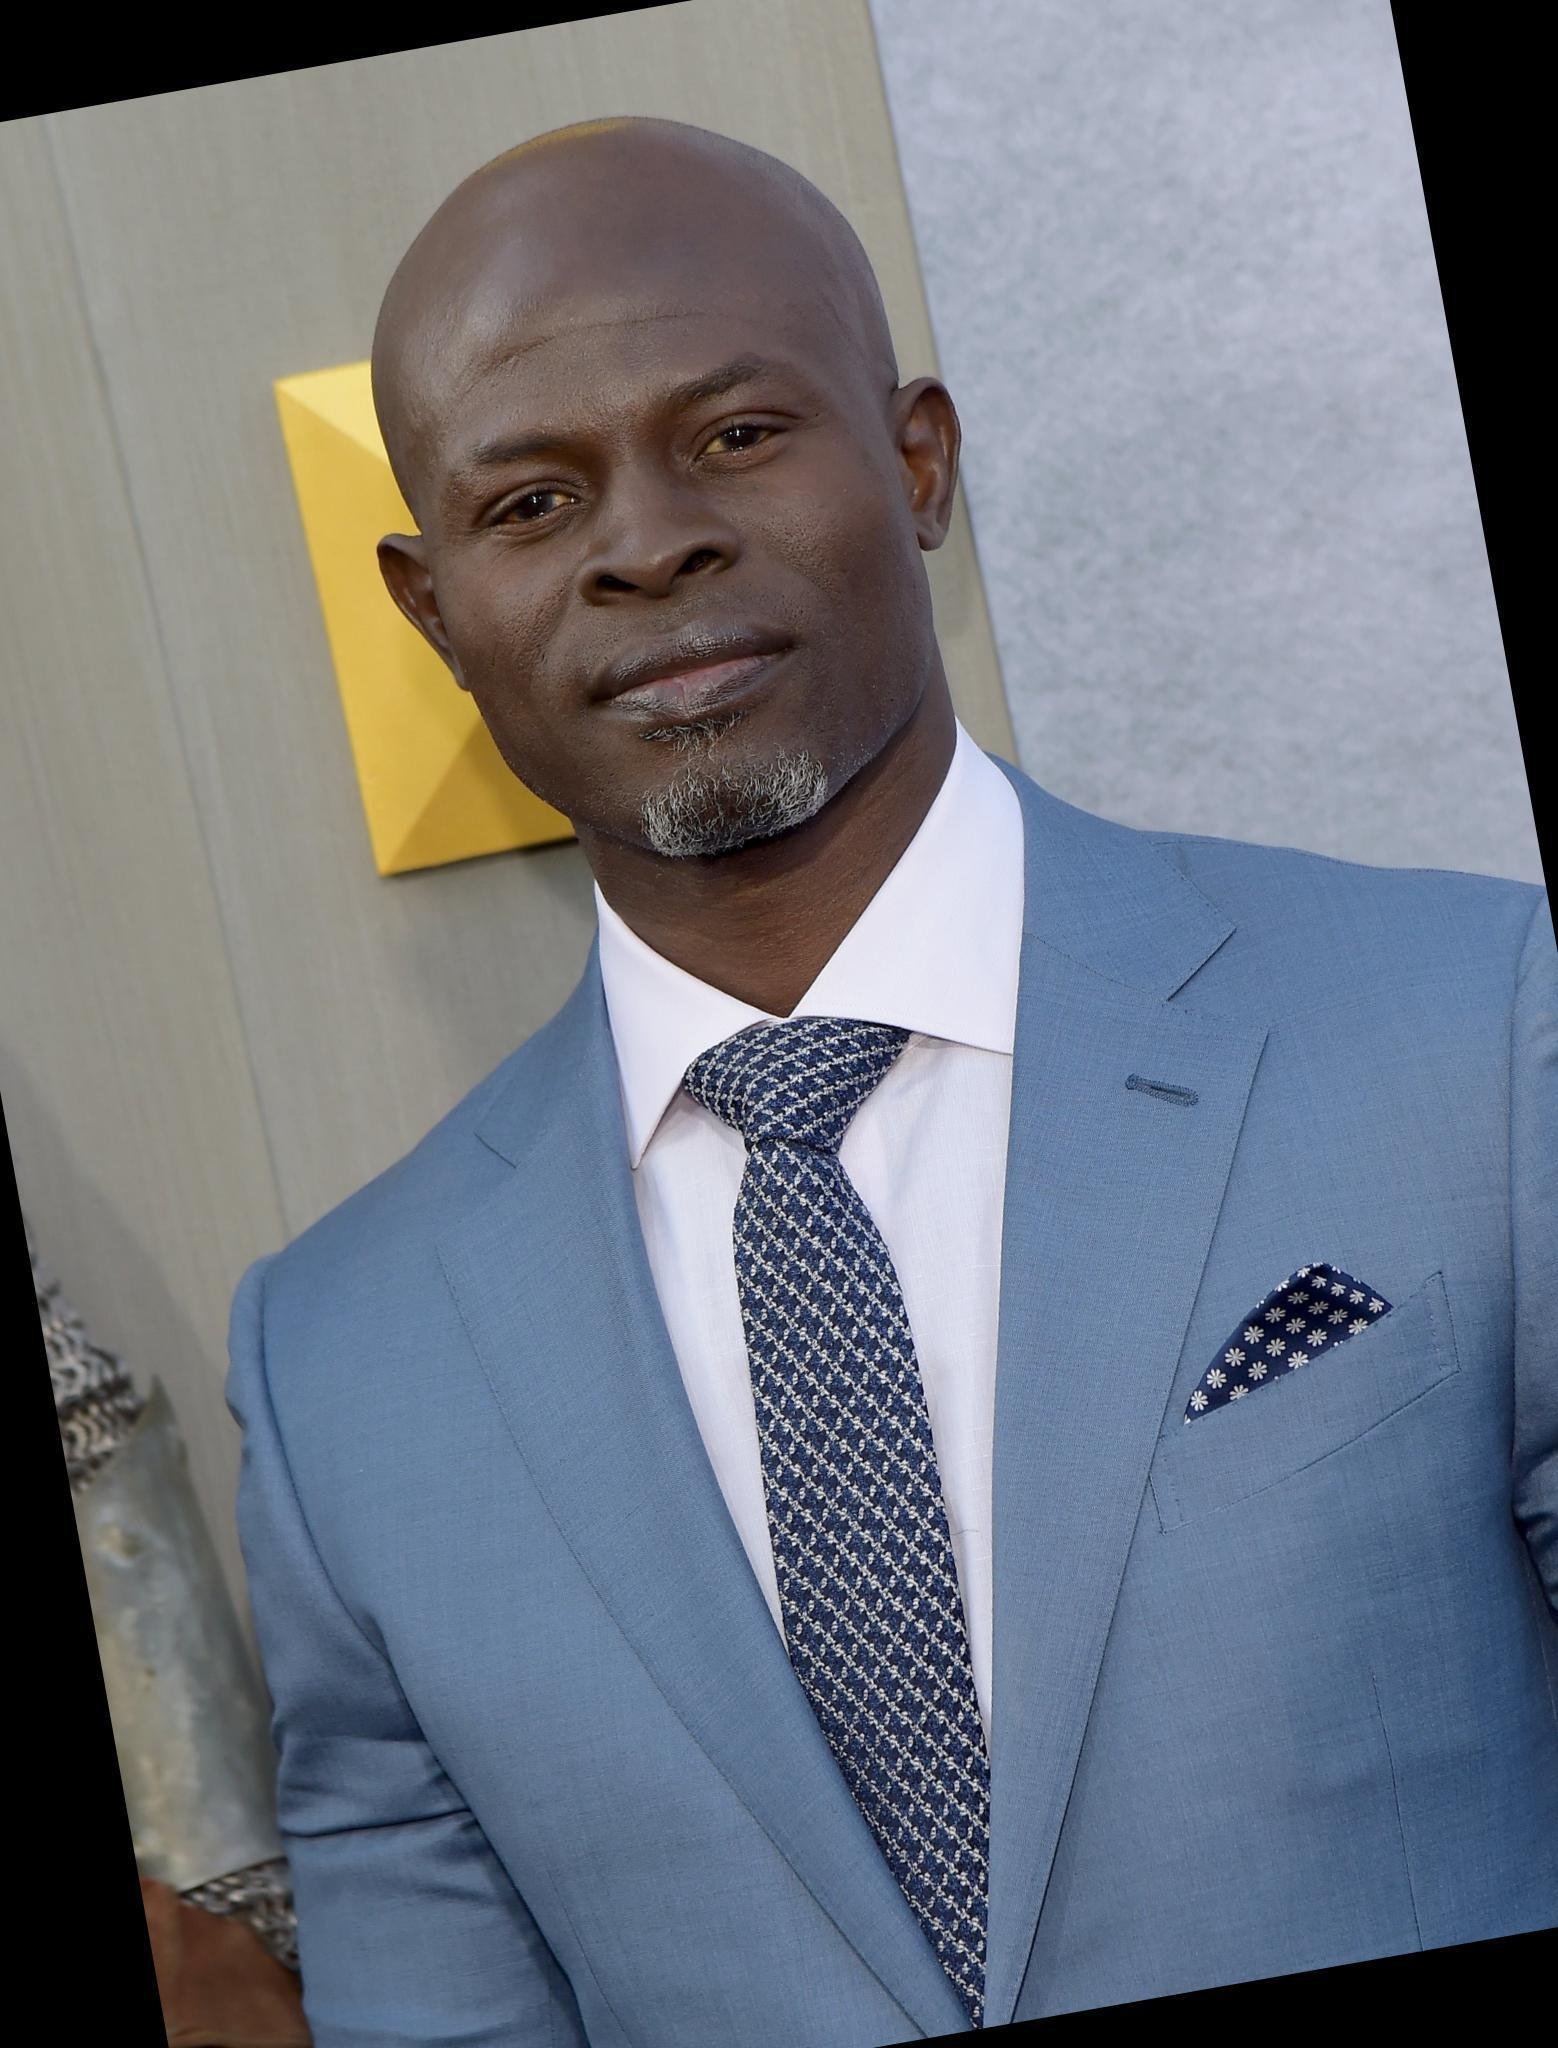Sober: (371, 165, 907, 841)
